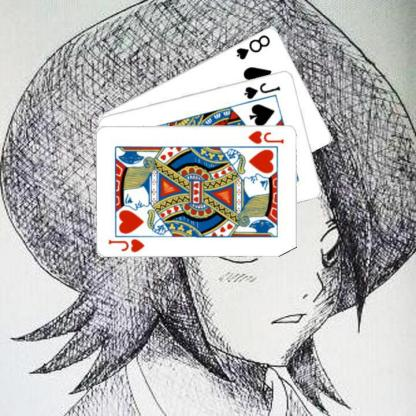8S: (234, 31, 272, 60)
JH: (106, 236, 146, 253), (245, 128, 285, 144)
JS: (241, 79, 282, 100)
